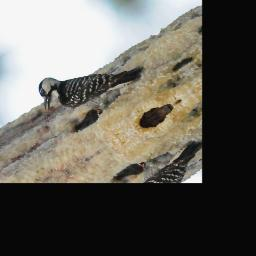Woodpecker: (28, 32, 154, 136)
